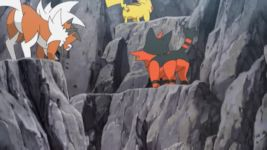pikachu: (104, 1, 157, 27)
